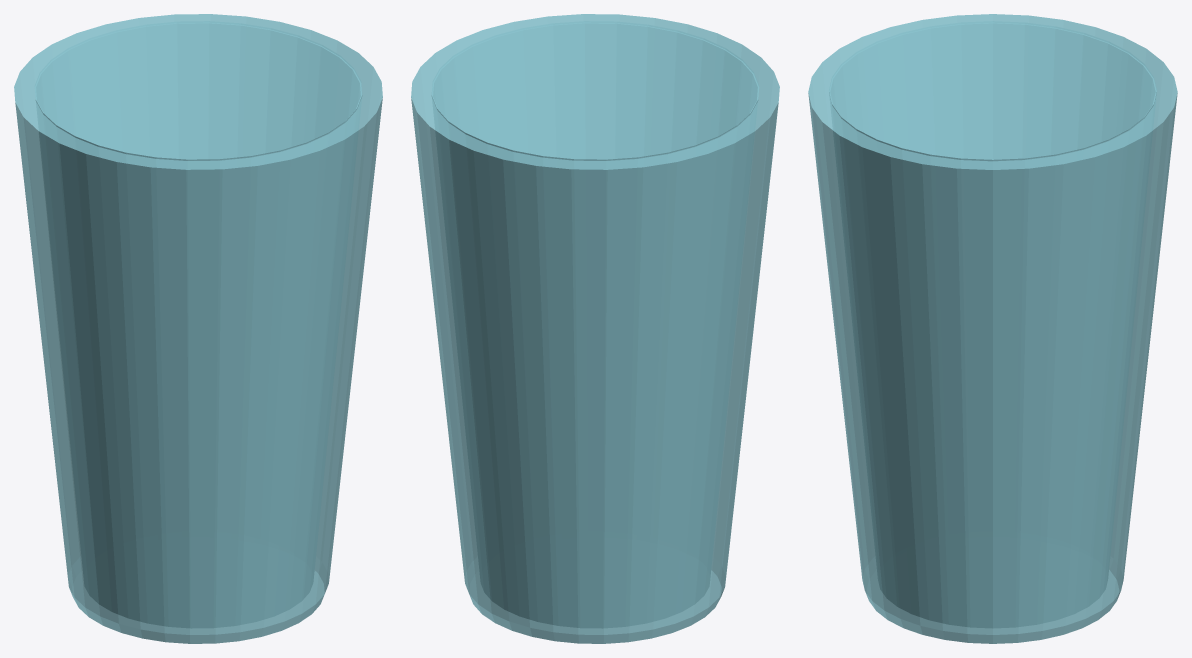
Rendered from glassfluid.fbx.
The picture shows the model from 3 angles, left to right: view 1: azimuth 30°, elevation 25°; view 2: azimuth 150°, elevation 25°; view 3: azimuth 270°, elevation 25°; orthographic projection.
Parts seen in each view (by area): view 1: Cylinder.001; view 2: Cylinder.001; view 3: Cylinder.001.
Boxes of the visible parts, x1,y1,x2,y2 form: Cylinder.001: (14,14,382,643); Cylinder.001: (411,14,779,643); Cylinder.001: (808,14,1177,643).
Size of the model in its own units: 209 by 312 by 209.
